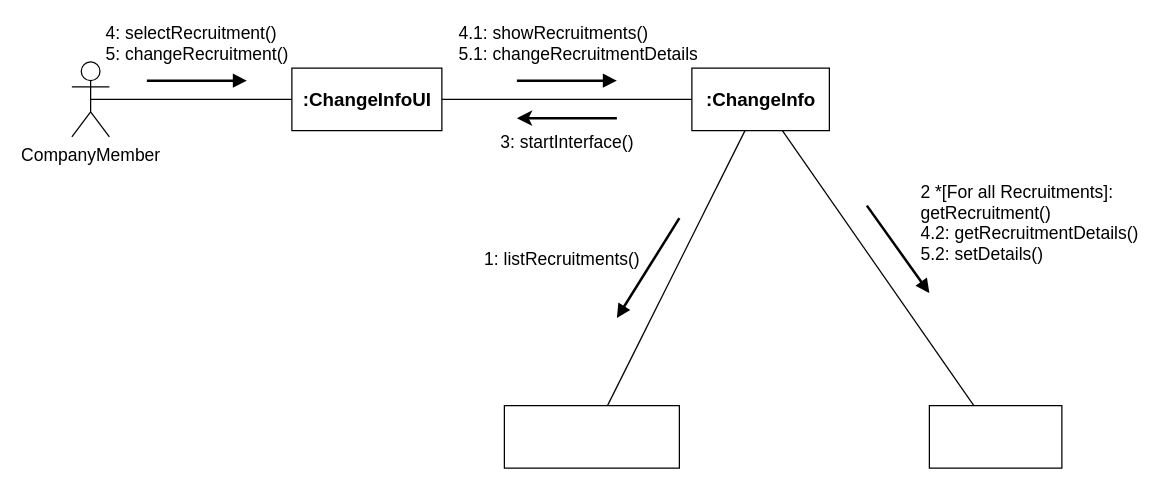
This 1160x490 diagram has some shape labels left out. Each missing label, with the centre of its shape:
":CompanyMember" goes at [591,436].
":Recruitment" goes at [995,436].
